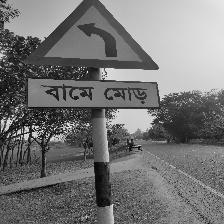Left-Turn: (21, 0, 162, 112)
